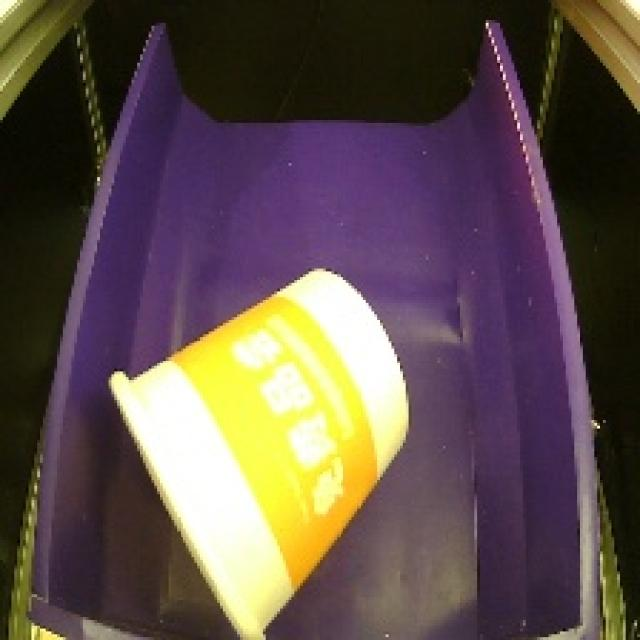cups: (100, 256, 420, 640)
